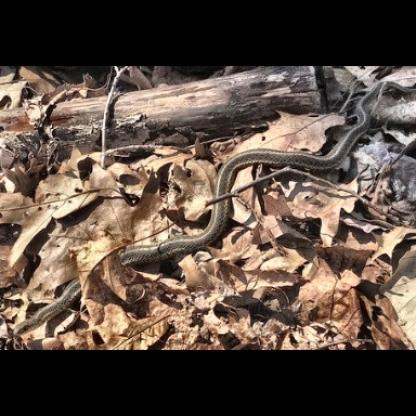Snake: (107, 202, 250, 264), (213, 140, 353, 178), (11, 282, 72, 339)
